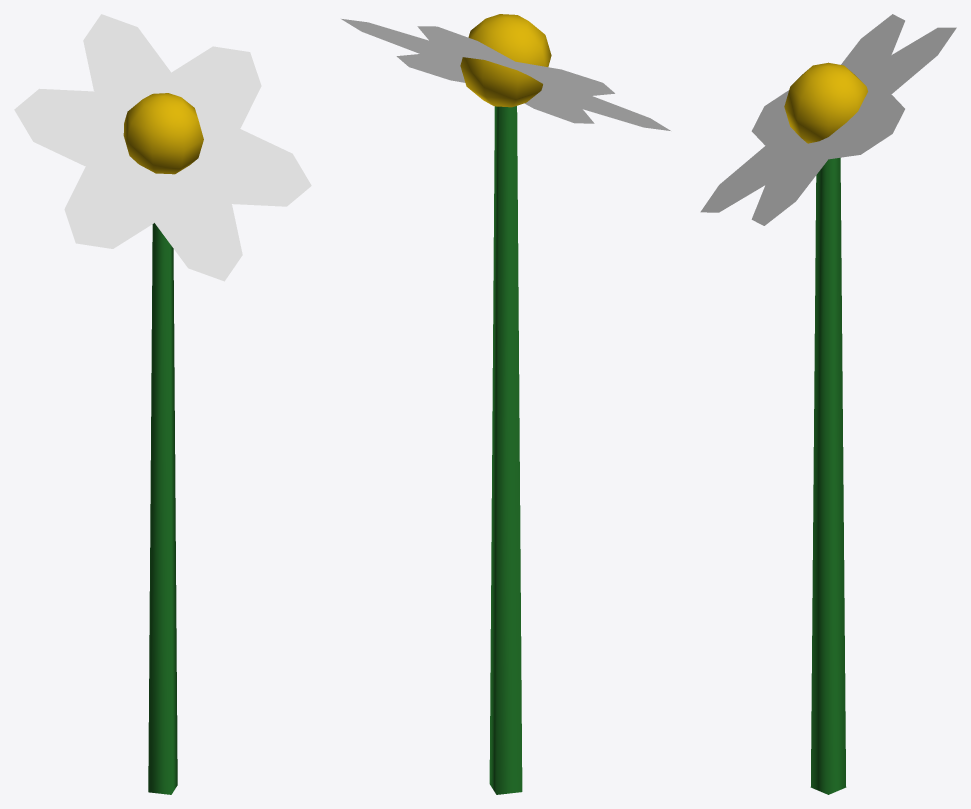
The model's file is poppy.glb.
The picture shows the model from 3 angles, left to right: view 1: azimuth 30°, elevation 25°; view 2: azimuth 150°, elevation 25°; view 3: azimuth 270°, elevation 25°; orthographic projection. The views are drawn at different scales.
Parts seen in each view (by area): view 1: poppy; view 2: poppy; view 3: poppy.
Part boxes in pixels (x1=…): poppy: x1=14, y1=14, x2=311, y2=794; poppy: x1=341, y1=14, x2=670, y2=794; poppy: x1=700, y1=14, x2=956, y2=794.
Bounding box in the file's own units: 0.1927 × 0.5692 × 0.1743.
